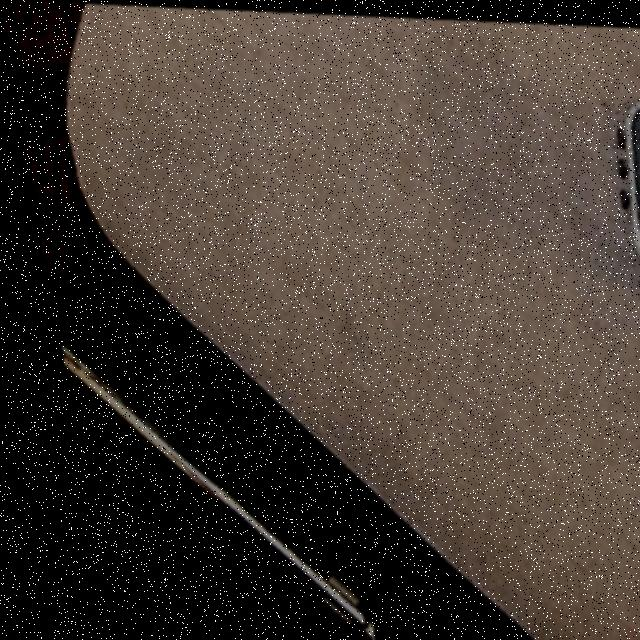adapter: (596, 86, 640, 304)
